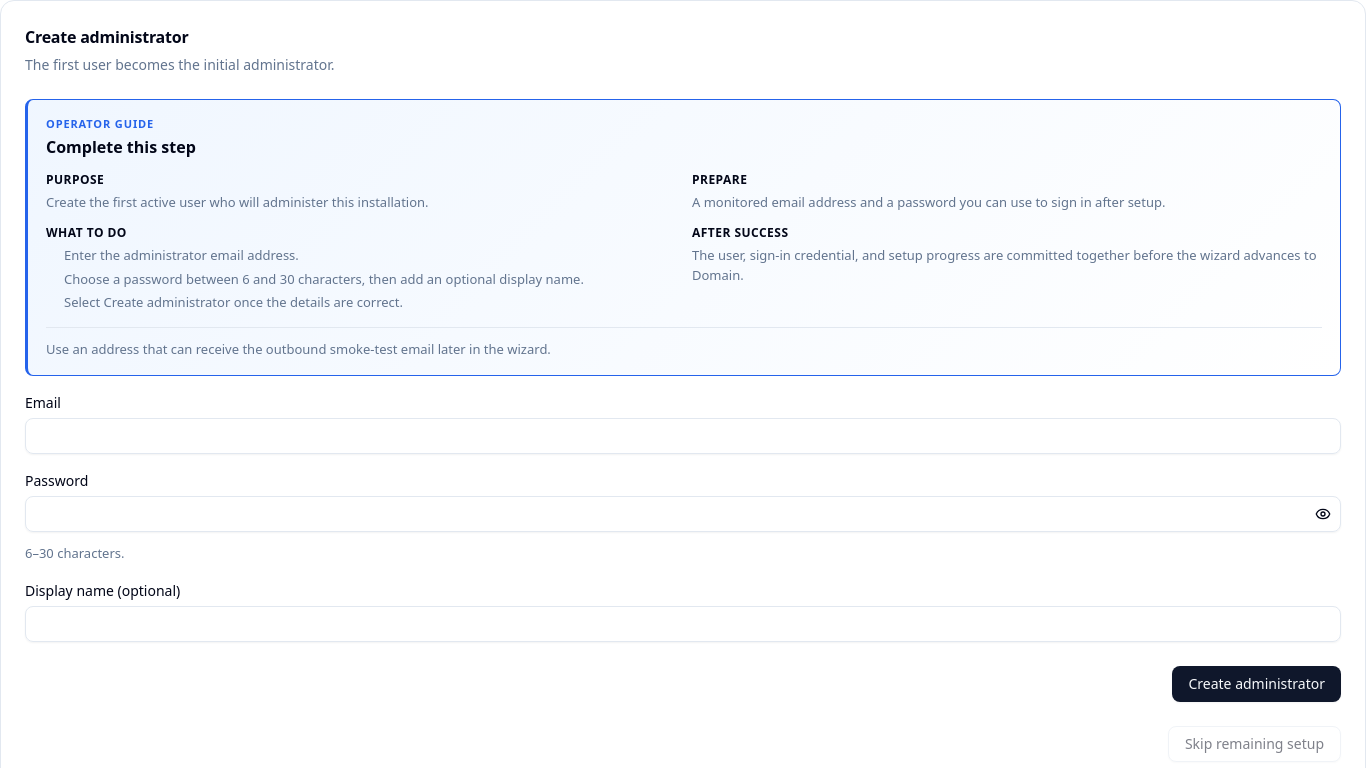
Test: AdministratorStep › on 401 offers a Re-claim button (Security HIGH #2)
This screenshot has width=1366, height=768.
Type "admin@example.com" into the field labelled "Email".
click(683, 436); type("admin@example.com")  # box [25,418,1341,454]
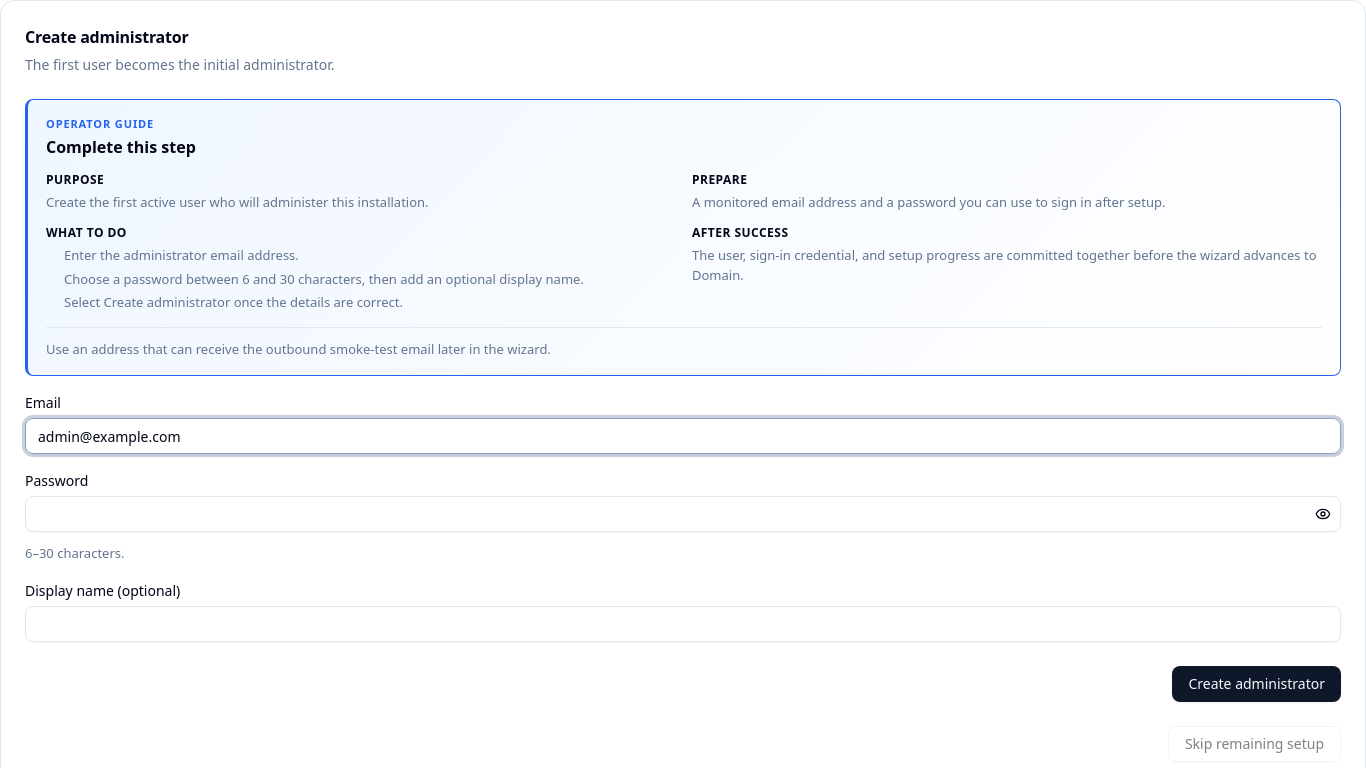
Type "correct-horse-battery" into the password field labelled "Password".
click(683, 514); type("correct-horse-battery")  # box [25,496,1341,532]
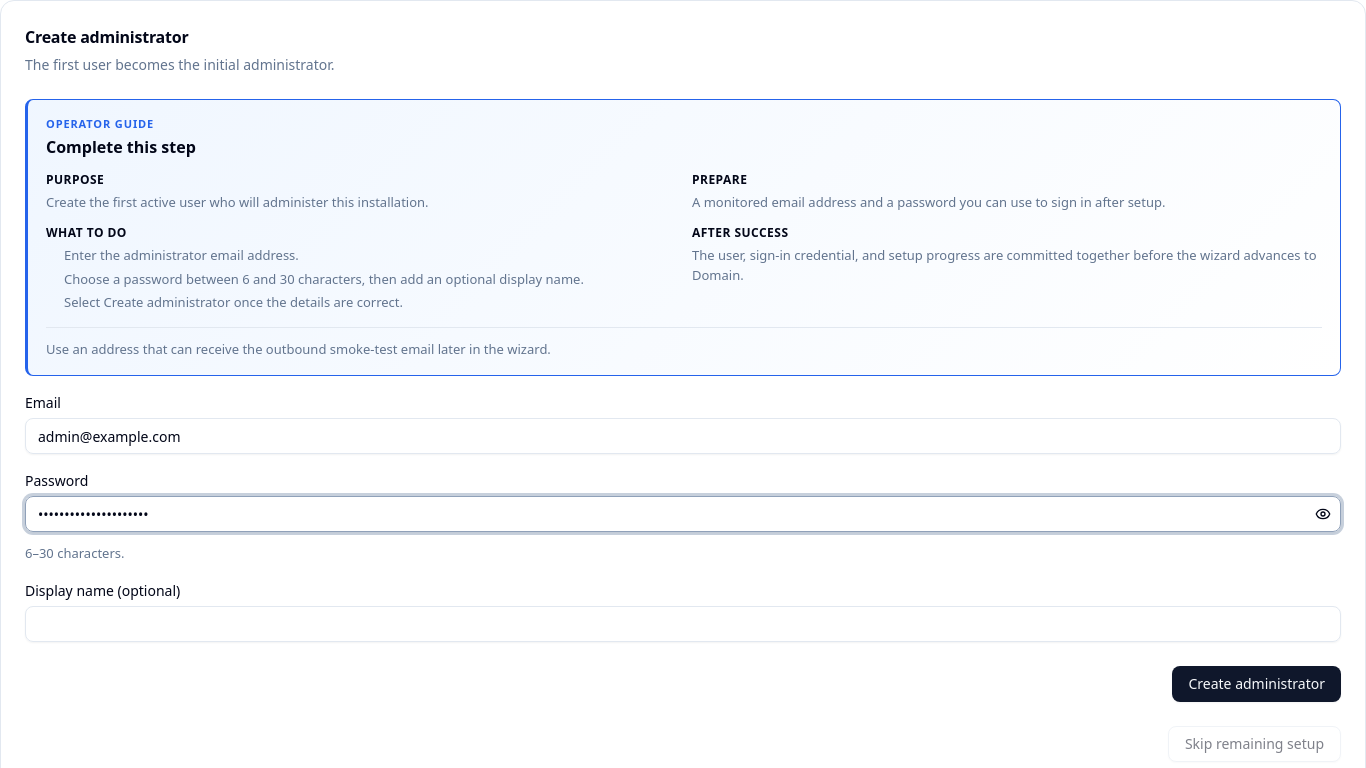
Click the button with test id "administrator-submit".
click(1257, 684)  # box [1172,666,1341,702]
(page scrolled)
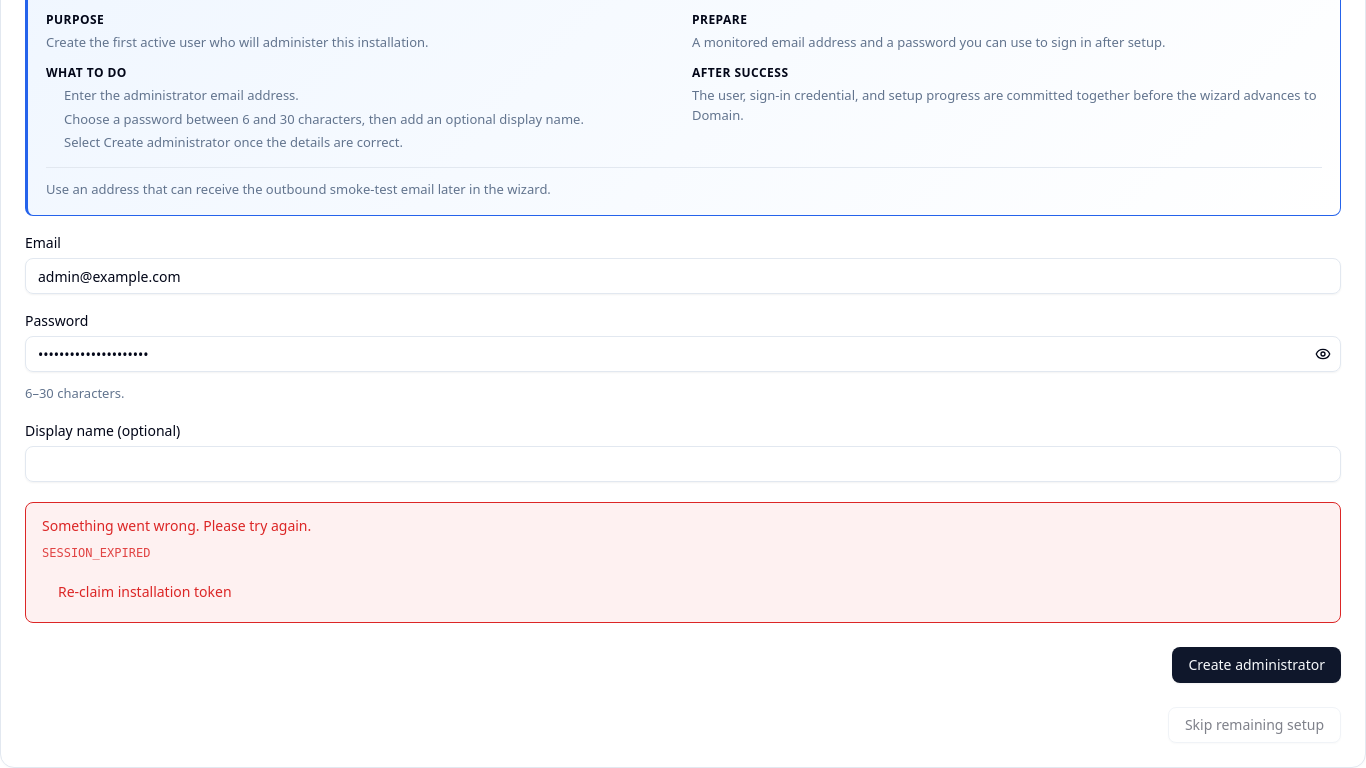
Now the text with test id "error-code" reads "SESSION_EXPIRED", box [42,546,150,560]
Now the button "Re-claim installation token" is shown, box [42,574,248,610]
